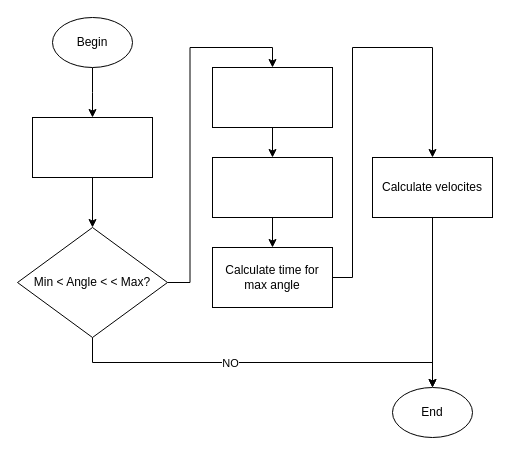
Some shapes in this 510 by 455 pixel diagram are drawn without their labels. The shapes that lost their labels are listed below. From the top down, each one's box as (x1, y1, x2, y2) in pixels, then its label:
(212, 66, 332, 128): Calculate delta
(32, 116, 152, 178): Get target angle
(212, 156, 332, 218): Find maximal delta angle
